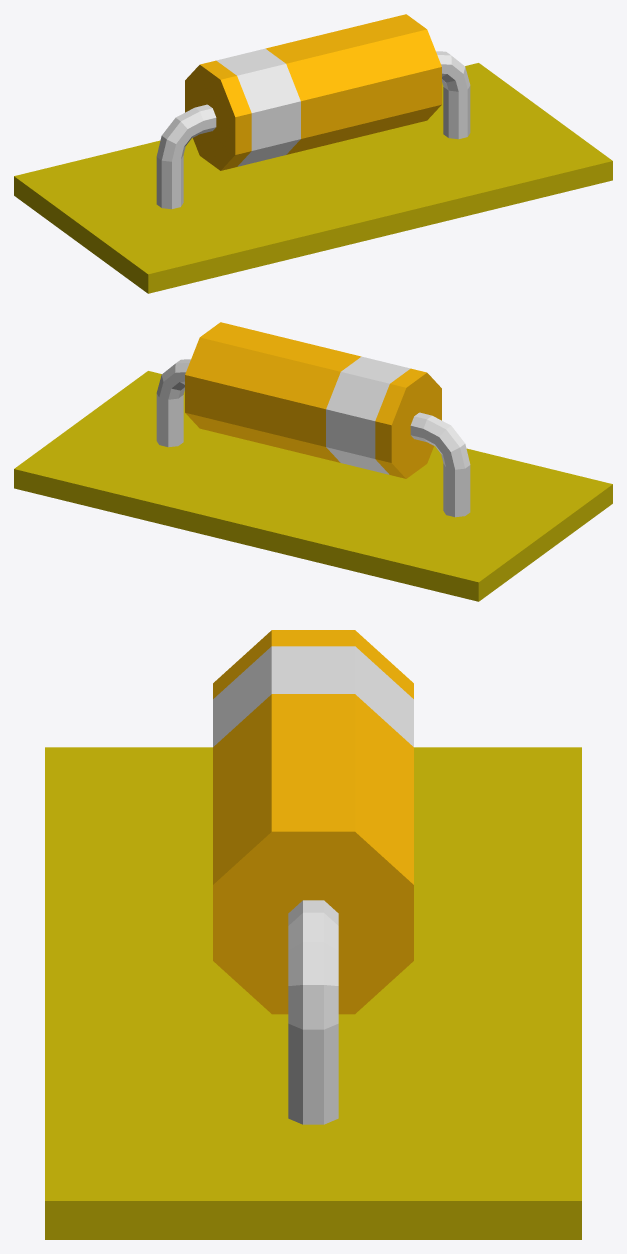
The model's file is epe_diode.dae.
3 views of the same model, one above another, from view 1: azimuth 30°, elevation 25°; view 2: azimuth 150°, elevation 25°; view 3: azimuth 270°, elevation 25° (orthographic). The views are drawn at different scales.
Parts seen in each view (by area): view 1: diode; view 2: diode; view 3: diode.
Boxes of the visible parts, left/top/right/bottom form: diode: left=14, top=14, right=612, bottom=293; diode: left=14, top=322, right=612, bottom=601; diode: left=45, top=630, right=581, bottom=1239.
Bounding box in the file's own units: 0.5 × 0.25 × 0.145.
